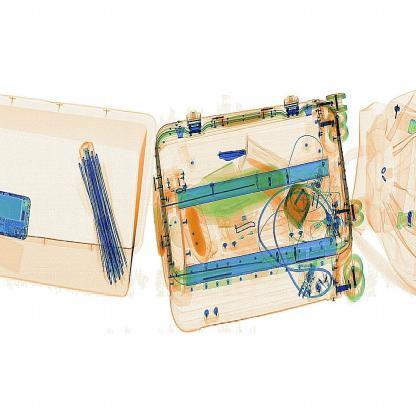knife: (212, 142, 255, 172)
